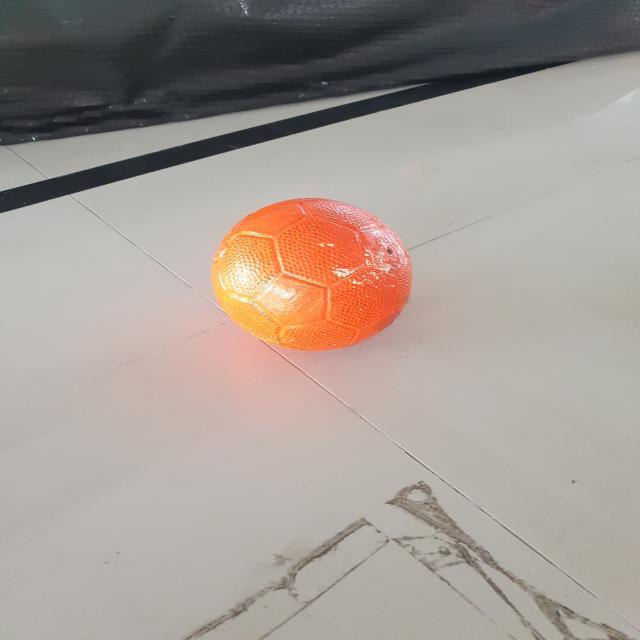bola: (197, 184, 423, 369)
